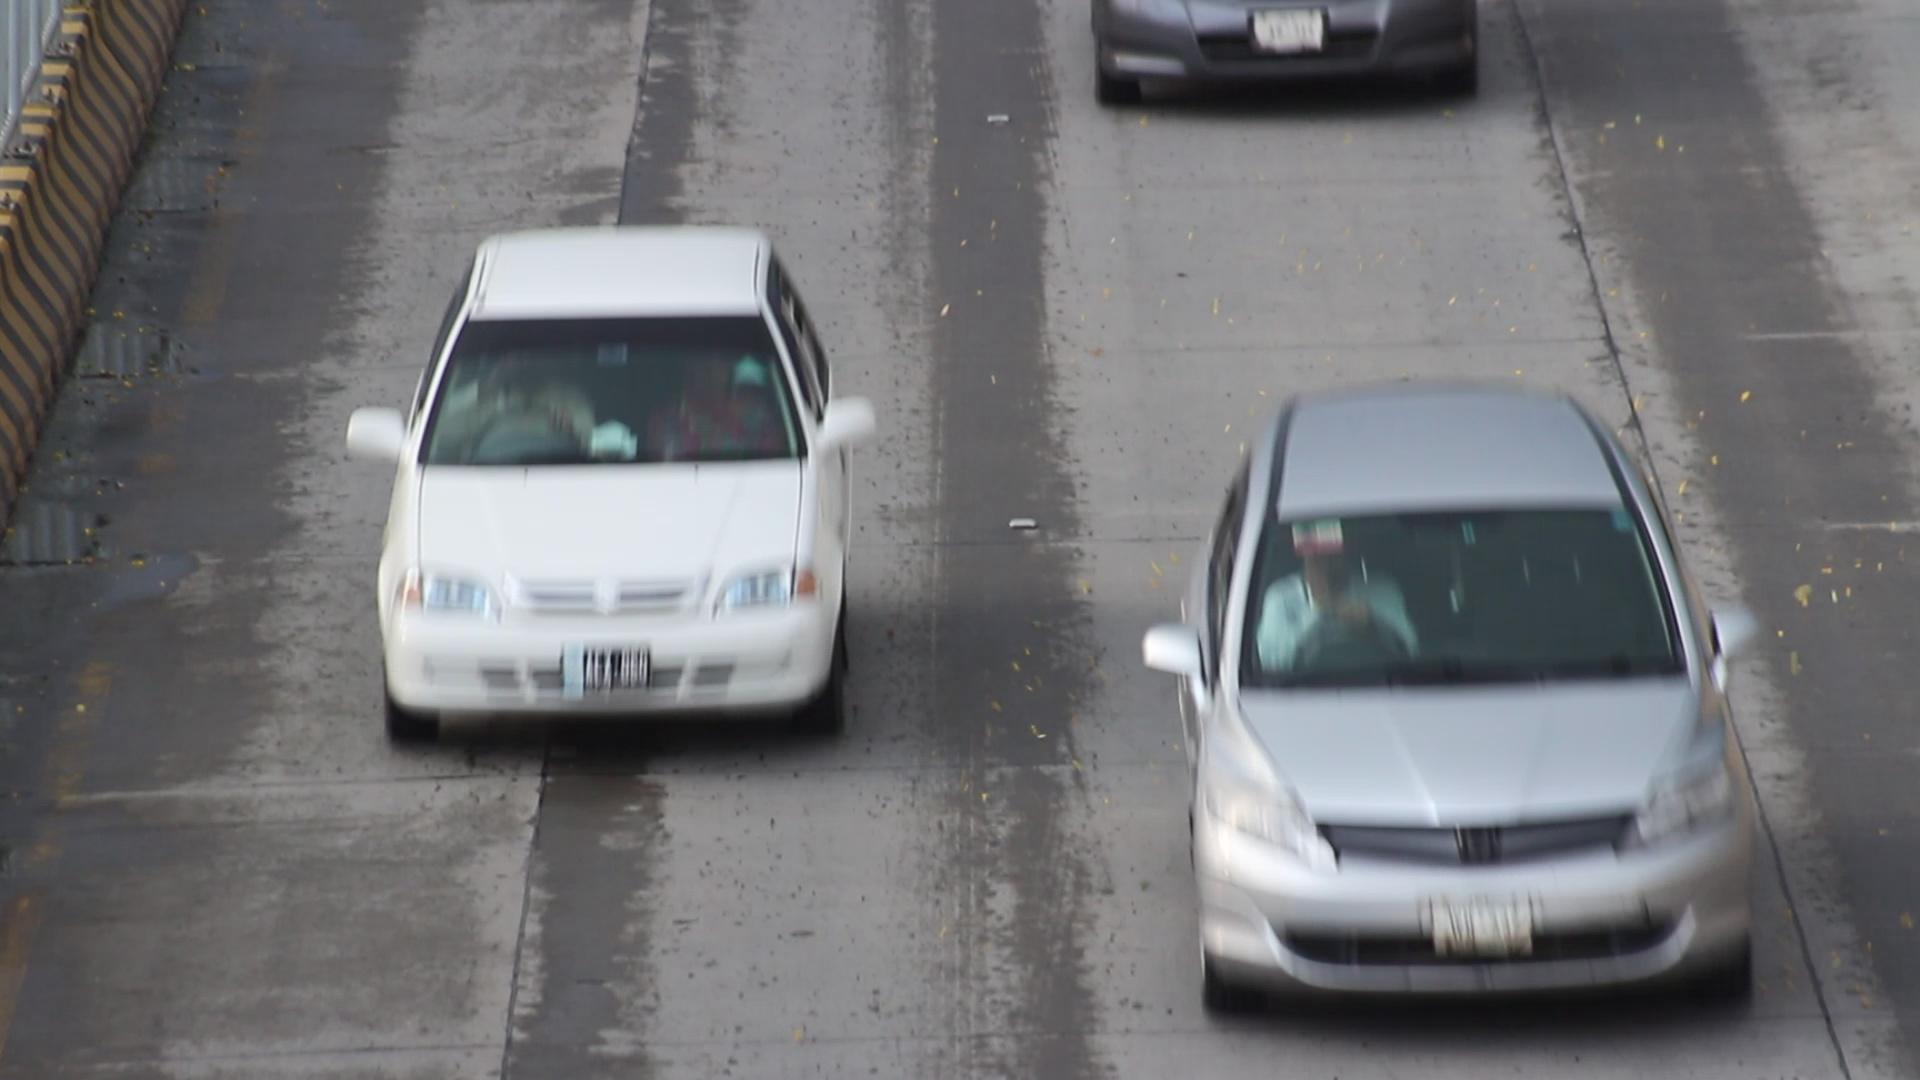windshield: (1228, 487, 1706, 703), (411, 307, 814, 476)
